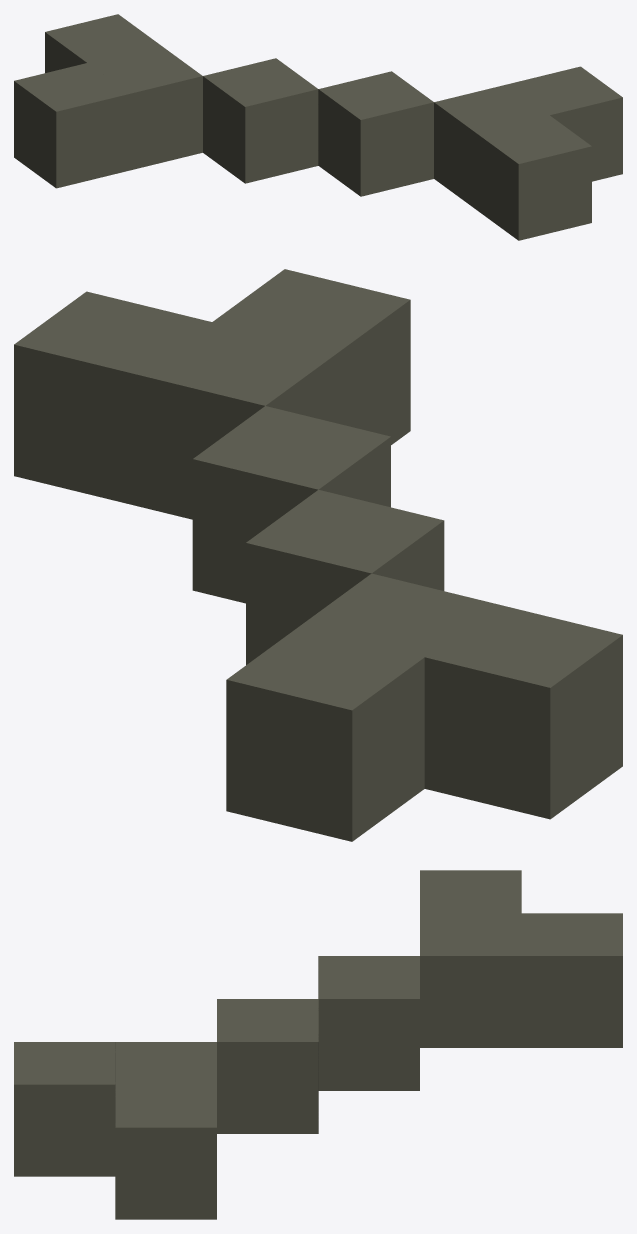
Rendered from OneBone.fbx.
3 renders of one model, top to bottom at view 1: azimuth 30°, elevation 25°; view 2: azimuth 150°, elevation 25°; view 3: azimuth 270°, elevation 25°, orthographic. The views are drawn at different scales.
Visible parts, largest first — view 1: Bones; view 2: Bones; view 3: Bones.
Boxes of the visible parts, left/top/right/bottom form: Bones: left=14, top=14, right=622, bottom=240; Bones: left=14, top=269, right=622, bottom=841; Bones: left=14, top=870, right=622, bottom=1219.
Size of the model in its own units: 75 by 12.5 by 75.
